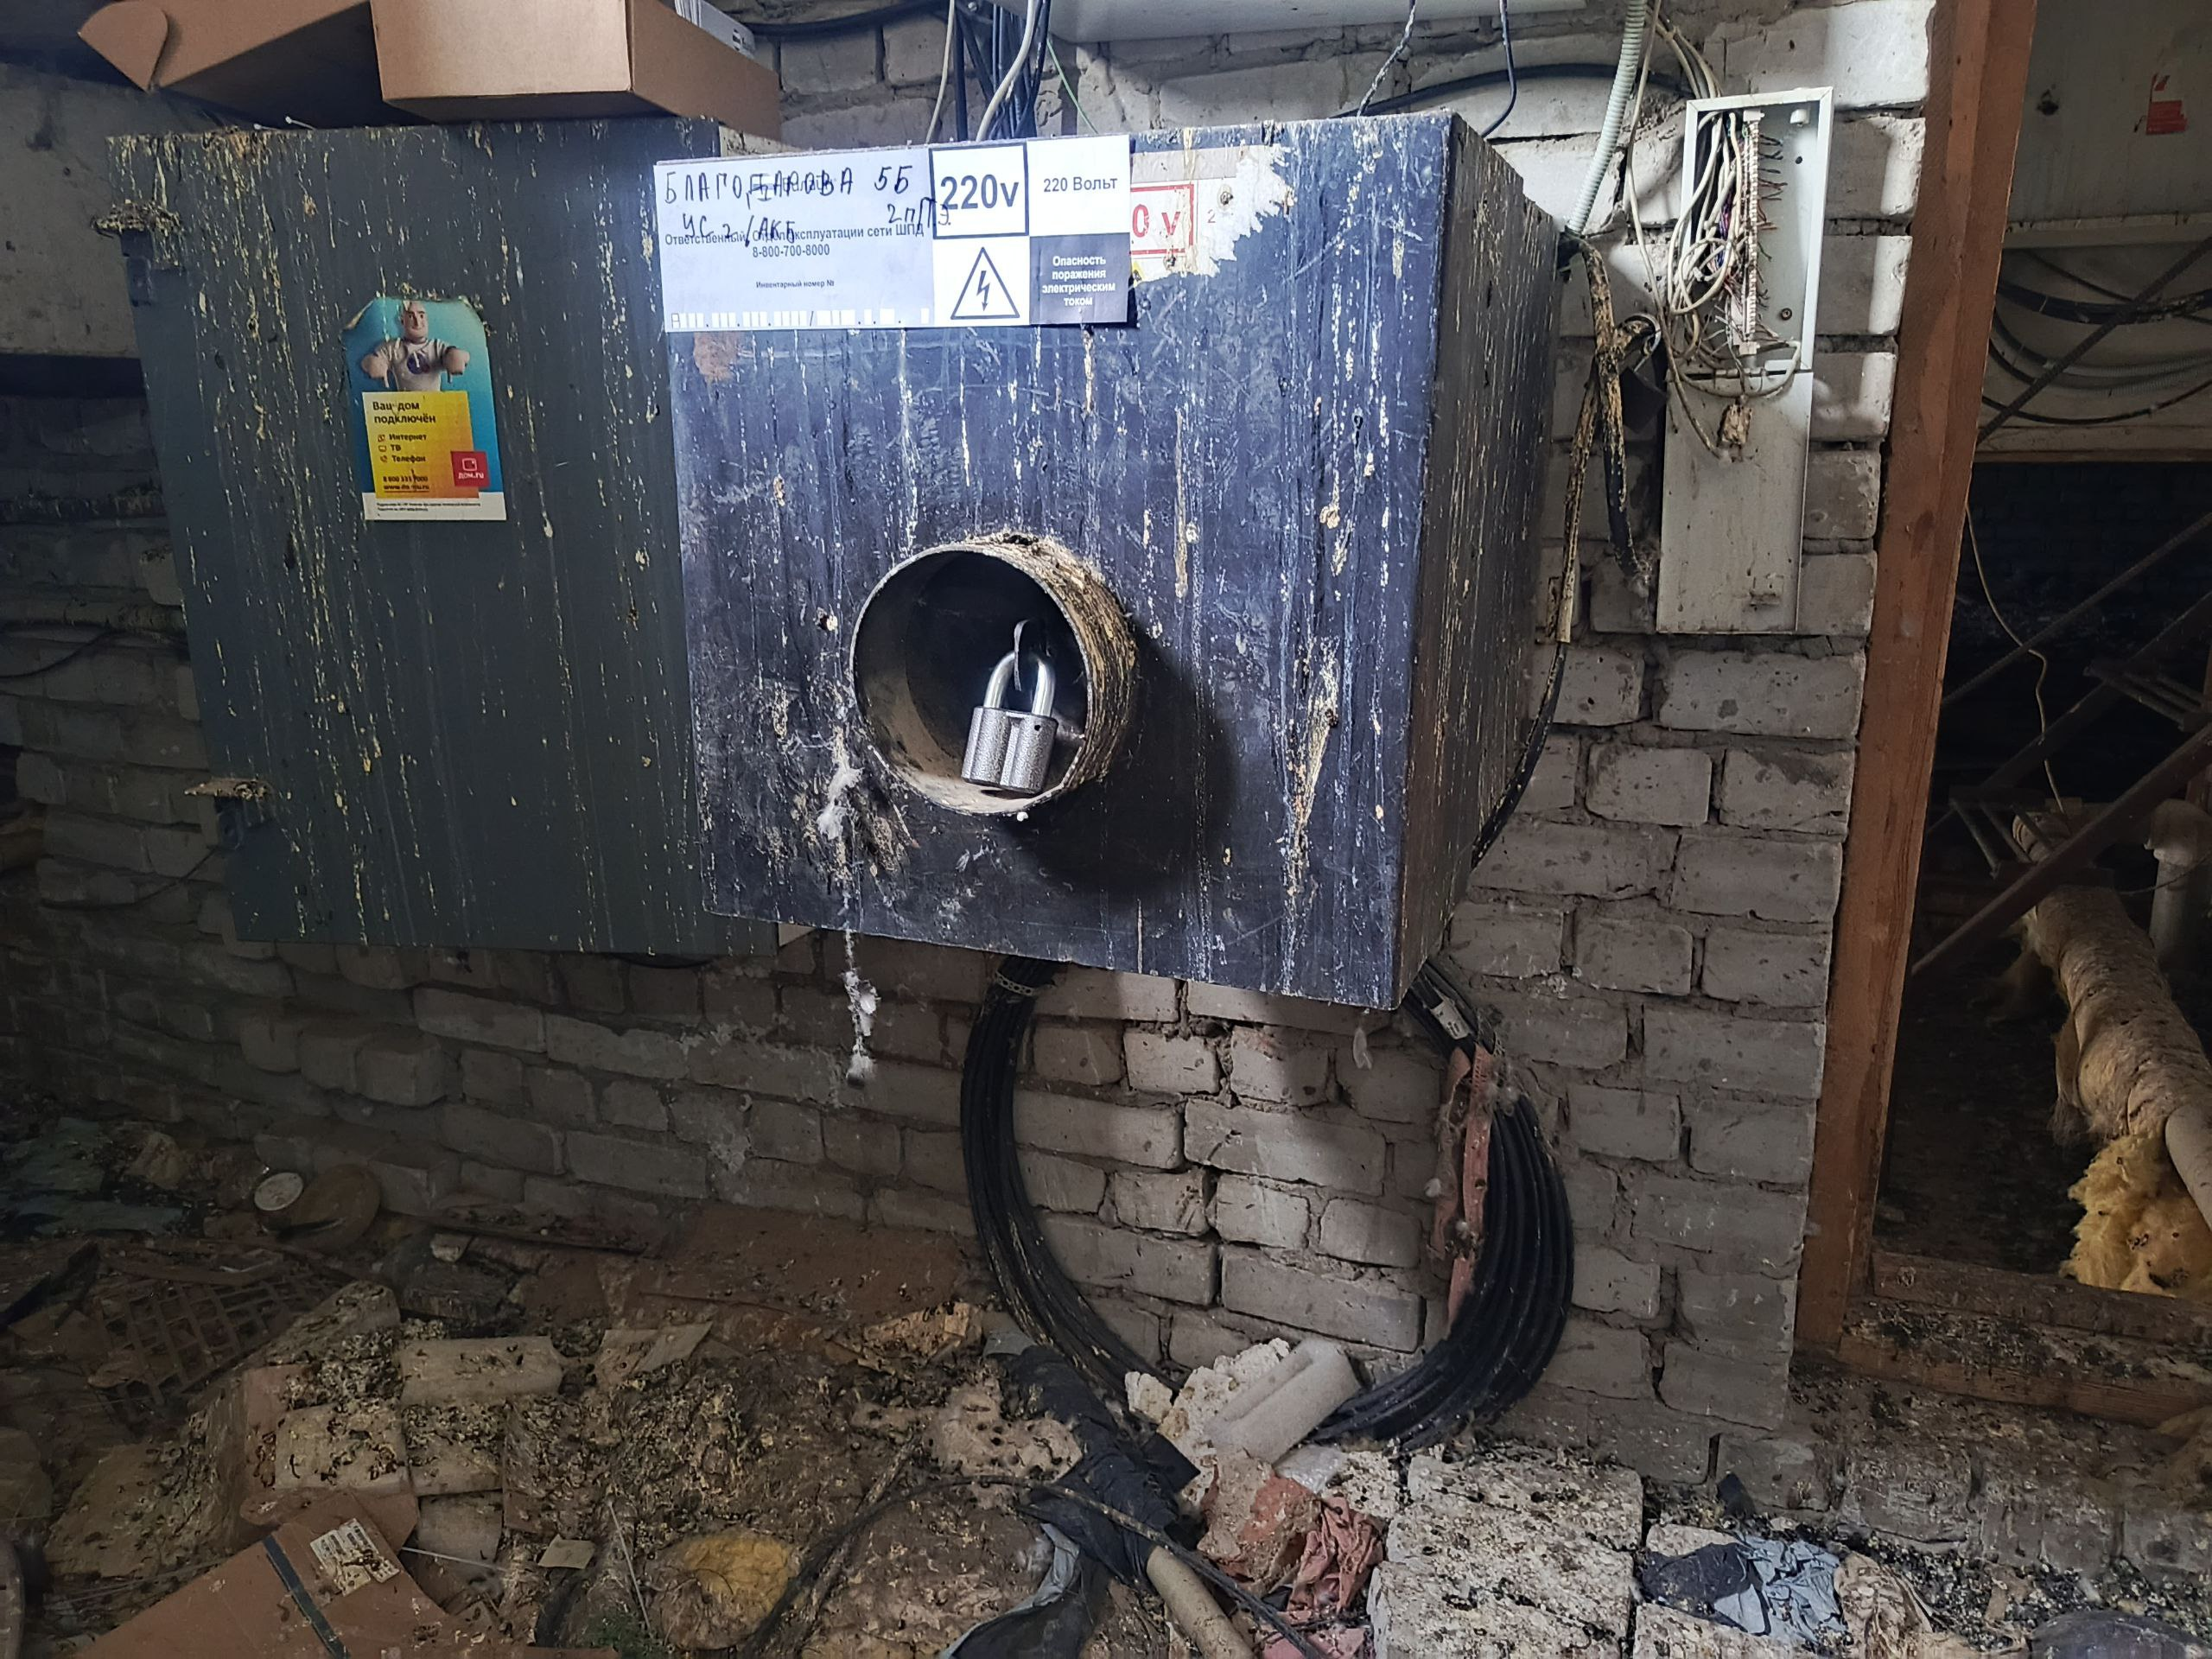shta-9: (634, 92, 1594, 1032)
